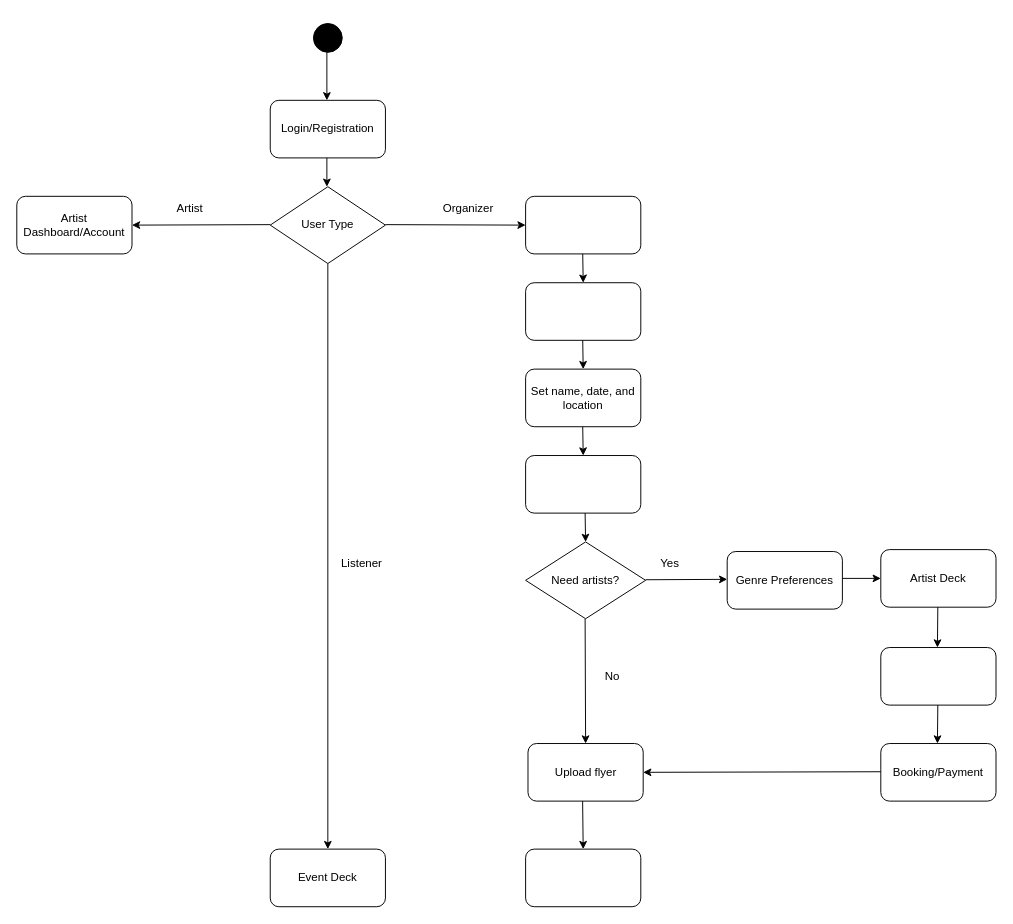
Image size: 1013x924. Some labels were removed from this diagram. The shapes that lost their labels are listed below. From the top down, each one's centre as x and y in pixels, then its label:
[583,224]: Organizer Dashboard/Account
[583,311]: Create Event
[583,484]: Add description
[938,676]: Artist Messenger
[583,877]: Post Listener card
